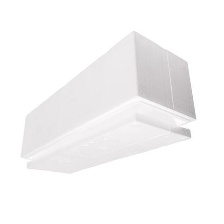foam_box: (17, 28, 203, 178)
